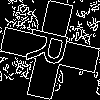R: (25, 25, 78, 71)
